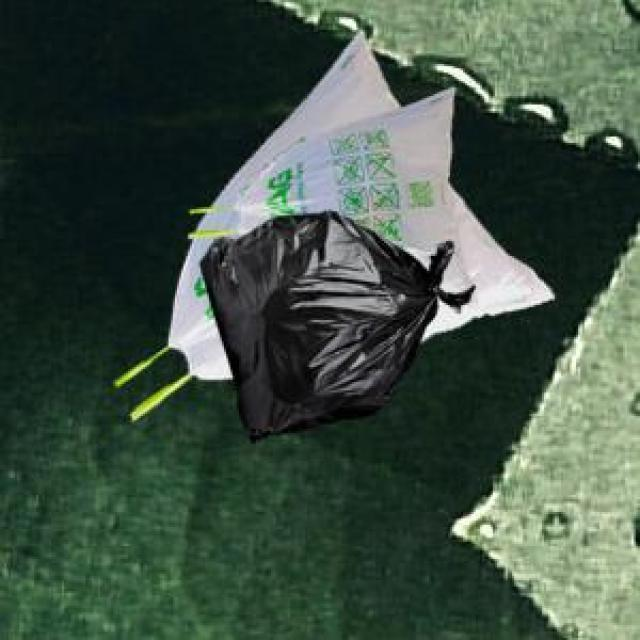miscellaneous trash: (196, 207, 472, 440)
